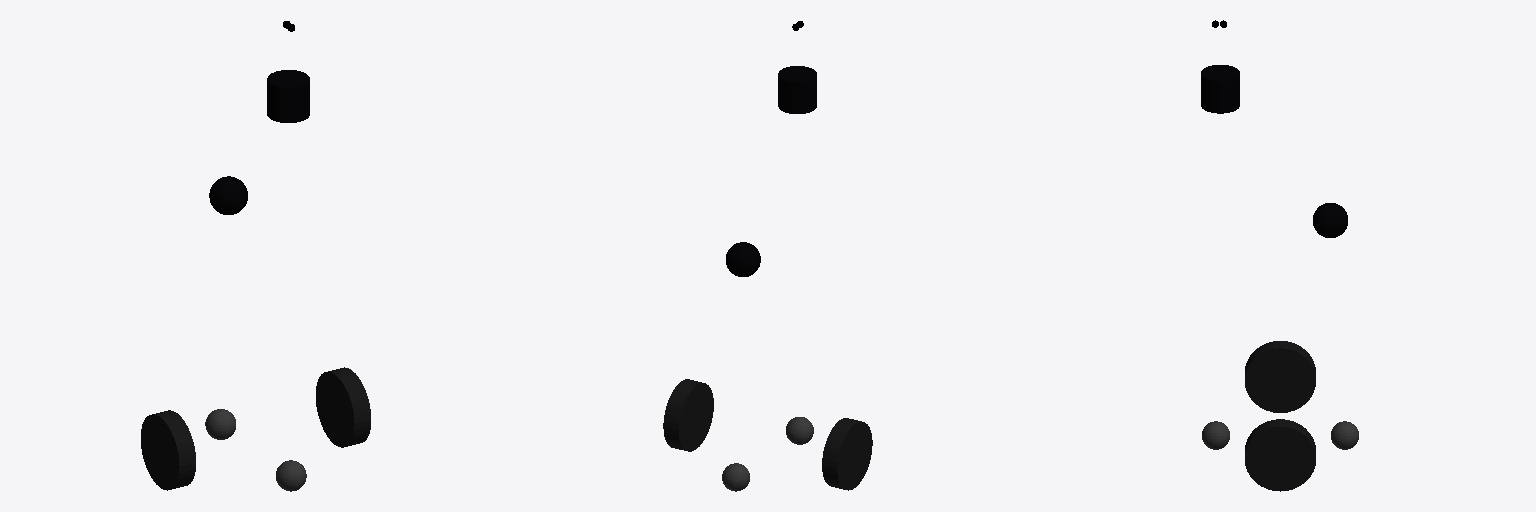
robot.urdf — shadow:
<?xml version="1.0"?>
<!-- URDF de Shadow generado a partir de Shadow.proto (Webots R2023b) y BodyMesh.proto.
     Se mantienen los ejes de Webots tal cual (z arriba, la base avanza por +y, las ruedas
     estan sobre el eje x). Unidades: metros, radianes, kg. -->
<robot name="shadow">

  <material name="body_grey"><color rgba="0.871 0.867 0.855 1.0"/></material>
  <material name="black_lens"><color rgba="0.02 0.02 0.03 1.0"/></material>
  <material name="black_housing"><color rgba="0.04 0.04 0.05 1.0"/></material>
  <material name="tire"><color rgba="0.12 0.12 0.12 1.0"/></material>
  <material name="caster_grey"><color rgba="0.25 0.25 0.25 1.0"/></material>

  <!-- ===================== BASE ===================== -->
  <!-- Proyeccion en el suelo (el Robot de Webots esta a z = 0.033) -->
  <link name="base_footprint"/>

  <link name="base_link">
    <inertial>
      <origin xyz="0 0 -0.045" rpy="0 0 0"/>
      <mass value="50"/>
      <inertia ixx="0.418086" iyy="0.166204" izz="0.55459" ixy="0" ixz="0" iyz="0"/>
    </inertial>
    <visual>
      <geometry>
        <mesh filename="meshes/shadow.stl"/>
      </geometry>
      <material name="body_grey"/>
    </visual>
    <!-- boundingObject del proto -->
    <collision>
      <origin xyz="0 0 0.38" rpy="0 0 0"/>
      <geometry><box size="0.44 0.46 0.76"/></geometry>
    </collision>
    <collision>
      <origin xyz="0 -0.17 1.03" rpy="0 0 0"/>
      <geometry><box size="0.1 0.1 0.61"/></geometry>
    </collision>
  </link>

  <joint name="base_footprint_to_base_link" type="fixed">
    <parent link="base_footprint"/>
    <child link="base_link"/>
    <origin xyz="0 0 0.033" rpy="0 0 0"/>
  </joint>

  <!-- ===================== RUEDAS MOTRICES ===================== -->
  <!-- Radio 0.1, ancho 0.05, masa 2 kg, eje de giro (-1 0 0), anchor (+-0.259, 0, 0.067) -->
  <link name="wheel_left">
    <inertial>
      <mass value="2"/>
      <inertia ixx="0.01" iyy="0.0054167" izz="0.0054167" ixy="0" ixz="0" iyz="0"/>
    </inertial>
    <visual>
      <origin xyz="0 0 0" rpy="0 1.5707963 0"/>
      <geometry><cylinder radius="0.1" length="0.05"/></geometry>
      <material name="tire"/>
    </visual>
    <collision>
      <origin xyz="0 0 0" rpy="0 1.5707963 0"/>
      <geometry><cylinder radius="0.1" length="0.05"/></geometry>
    </collision>
  </link>

  <joint name="wheel_left_joint" type="continuous">
    <parent link="base_link"/>
    <child link="wheel_left"/>
    <origin xyz="-0.259 0 0.067" rpy="0 0 0"/>
    <axis xyz="-1 0 0"/>
    <limit effort="100" velocity="30"/>
  </joint>

  <link name="wheel_right">
    <inertial>
      <mass value="2"/>
      <inertia ixx="0.01" iyy="0.0054167" izz="0.0054167" ixy="0" ixz="0" iyz="0"/>
    </inertial>
    <visual>
      <origin xyz="0 0 0" rpy="0 1.5707963 0"/>
      <geometry><cylinder radius="0.1" length="0.05"/></geometry>
      <material name="tire"/>
    </visual>
    <collision>
      <origin xyz="0 0 0" rpy="0 1.5707963 0"/>
      <geometry><cylinder radius="0.1" length="0.05"/></geometry>
    </collision>
  </link>

  <joint name="wheel_right_joint" type="continuous">
    <parent link="base_link"/>
    <child link="wheel_right"/>
    <origin xyz="0.259 0 0.067" rpy="0 0 0"/>
    <axis xyz="-1 0 0"/>
    <limit effort="100" velocity="30"/>
  </joint>

  <!-- ===================== RUEDAS LOCAS (BallJoint -> 3 joints continuos) ===================== -->
  <!-- URDF no tiene joint esferico: se emula con roll/pitch/yaw encadenados. Esfera r=0.04, masa 0.2 -->
  <link name="caster_front_roll"><inertial><mass value="0.001"/><inertia ixx="1e-7" iyy="1e-7" izz="1e-7" ixy="0" ixz="0" iyz="0"/></inertial></link>
  <link name="caster_front_pitch"><inertial><mass value="0.001"/><inertia ixx="1e-7" iyy="1e-7" izz="1e-7" ixy="0" ixz="0" iyz="0"/></inertial></link>
  <link name="caster_front">
    <inertial>
      <mass value="0.2"/>
      <inertia ixx="0.000128" iyy="0.000128" izz="0.000128" ixy="0" ixz="0" iyz="0"/>
    </inertial>
    <visual>
      <geometry><sphere radius="0.04"/></geometry>
      <material name="caster_grey"/>
    </visual>
    <collision>
      <geometry><sphere radius="0.04"/></geometry>
    </collision>
  </link>
  <joint name="caster_front_roll_joint" type="continuous">
    <parent link="base_link"/><child link="caster_front_roll"/>
    <origin xyz="0 0.18 0.007" rpy="0 0 0"/><axis xyz="1 0 0"/>
  </joint>
  <joint name="caster_front_pitch_joint" type="continuous">
    <parent link="caster_front_roll"/><child link="caster_front_pitch"/>
    <origin xyz="0 0 0" rpy="0 0 0"/><axis xyz="0 1 0"/>
  </joint>
  <joint name="caster_front_yaw_joint" type="continuous">
    <parent link="caster_front_pitch"/><child link="caster_front"/>
    <origin xyz="0 0 0" rpy="0 0 0"/><axis xyz="0 0 1"/>
  </joint>

  <link name="caster_back_roll"><inertial><mass value="0.001"/><inertia ixx="1e-7" iyy="1e-7" izz="1e-7" ixy="0" ixz="0" iyz="0"/></inertial></link>
  <link name="caster_back_pitch"><inertial><mass value="0.001"/><inertia ixx="1e-7" iyy="1e-7" izz="1e-7" ixy="0" ixz="0" iyz="0"/></inertial></link>
  <link name="caster_back">
    <inertial>
      <mass value="0.2"/>
      <inertia ixx="0.000128" iyy="0.000128" izz="0.000128" ixy="0" ixz="0" iyz="0"/>
    </inertial>
    <visual>
      <geometry><sphere radius="0.04"/></geometry>
      <material name="caster_grey"/>
    </visual>
    <collision>
      <geometry><sphere radius="0.04"/></geometry>
    </collision>
  </link>
  <joint name="caster_back_roll_joint" type="continuous">
    <parent link="base_link"/><child link="caster_back_roll"/>
    <origin xyz="0 -0.18 0.007" rpy="0 0 0"/><axis xyz="1 0 0"/>
  </joint>
  <joint name="caster_back_pitch_joint" type="continuous">
    <parent link="caster_back_roll"/><child link="caster_back_pitch"/>
    <origin xyz="0 0 0" rpy="0 0 0"/><axis xyz="0 1 0"/>
  </joint>
  <joint name="caster_back_yaw_joint" type="continuous">
    <parent link="caster_back_pitch"/><child link="caster_back"/>
    <origin xyz="0 0 0" rpy="0 0 0"/><axis xyz="0 0 1"/>
  </joint>

  <!-- ===================== IMU (Accelerometer + Gyro en el origen del robot) ===================== -->
  <link name="imu"/>
  <joint name="base_link_to_imu" type="fixed">
    <parent link="base_link"/>
    <child link="imu"/>
    <origin xyz="0 0 0" rpy="0 0 0"/>
  </joint>

  <!-- ===================== ZED (Camera 1280x720, fov 1.9198 + RangeFinder "zed-ranger") ===================== -->
  <link name="zed"/>
  <joint name="base_link_to_zed" type="fixed">
    <parent link="base_link"/>
    <child link="zed"/>
    <origin xyz="0 -0.075 0.945" rpy="0 0 1.57"/>
  </joint>
  <!-- RangeFinder hijo de la camara, misma pose -->
  <link name="zed_ranger"/>
  <joint name="zed_to_zed_ranger" type="fixed">
    <parent link="zed"/>
    <child link="zed_ranger"/>
    <origin xyz="0 0 0" rpy="0 0 0"/>
  </joint>

  <!-- ===================== RICOH THETA: 2 camaras 960x960, fov 3.14, cilindricas ===================== -->
  <!-- camera_360_2: rotation 0 0 1 -pi/2 -->
  <link name="camera_360_2"/>
  <joint name="base_link_to_camera_360_2" type="fixed">
    <parent link="base_link"/>
    <child link="camera_360_2"/>
    <origin xyz="0 -0.17 1.275" rpy="0 0 -1.5707953"/>
  </joint>

  <!-- camera_360_1: rotation 0 0 -1 -pi/2  (= +pi/2 sobre z). Lleva las dos lentes (+-0.0115 en x local) -->
  <link name="camera_360_1">
    <visual>
      <origin xyz="0.0115 0 0" rpy="0 0 0"/>
      <geometry><sphere radius="0.0105"/></geometry>
      <material name="black_lens"/>
    </visual>
    <visual>
      <origin xyz="-0.0115 0 0" rpy="0 0 0"/>
      <geometry><sphere radius="0.0105"/></geometry>
      <material name="black_lens"/>
    </visual>
  </link>
  <joint name="base_link_to_camera_360_1" type="fixed">
    <parent link="base_link"/>
    <child link="camera_360_1"/>
    <origin xyz="0 -0.17 1.275" rpy="0 0 1.5708053"/>
  </joint>

  <!-- ===================== HELIOS (RS-Helios H32F70), montado invertido ===================== -->
  <!-- Webots: rotation 1 1 0 pi  ==  Rz(+90) * Rx(180)  ->  rpy = (pi, 0, pi/2) -->
  <link name="helios">
    <visual>
      <origin xyz="-0.0125 0 0" rpy="0 0 0"/>
      <geometry><cylinder radius="0.055" length="0.10"/></geometry>
      <material name="black_housing"/>
    </visual>
  </link>
  <joint name="base_link_to_helios" type="fixed">
    <parent link="base_link"/>
    <child link="helios"/>
    <origin xyz="0 -0.155 1.075" rpy="3.14159265359 0 1.5707963268"/>
  </joint>

  <!-- ===================== BPEARL (invertido) ===================== -->
  <!-- Webots: rotation -1 -1 0 pi  ->  misma matriz que helios: rpy = (pi, 0, pi/2) -->
  <link name="bpearl">
    <visual>
      <geometry><sphere radius="0.05"/></geometry>
      <material name="black_housing"/>
    </visual>
  </link>
  <joint name="base_link_to_bpearl" type="fixed">
    <parent link="base_link"/>
    <child link="bpearl"/>
    <origin xyz="0 0.14 0.67" rpy="3.14159265359 0 1.5707963268"/>
  </joint>

</robot>

--- What the picture shows (computed from the rendered views, not written in the file) ---
3 views of the same robot in one strip: view 1: azimuth 30°, elevation 25°; view 2: azimuth 150°, elevation 25°; view 3: azimuth 270°, elevation 25° (orthographic).
Robot: shadow — 17 links, 16 joints (8 continuous, 8 fixed); root link base_footprint; default pose: all joints at 0.
Links seen in each view (by area): view 1: wheel_right, wheel_left, helios, bpearl, caster_front, caster_back; view 2: wheel_left, wheel_right, helios, bpearl, caster_front, caster_back; view 3: wheel_left, wheel_right, helios, bpearl, caster_front, caster_back.
Link boxes in pixels (left/top/right/bottom): wheel_right: left=316, top=367, right=370, bottom=447; wheel_left: left=141, top=410, right=195, bottom=490; helios: left=267, top=70, right=309, bottom=122; bpearl: left=209, top=176, right=247, bottom=214; caster_front: left=205, top=409, right=235, bottom=439; caster_back: left=276, top=460, right=306, bottom=491; wheel_left: left=822, top=418, right=872, bottom=490; wheel_right: left=663, top=379, right=713, bottom=451; helios: left=778, top=66, right=816, bottom=113; bpearl: left=726, top=242, right=760, bottom=276; caster_front: left=722, top=463, right=749, bottom=491; caster_back: left=786, top=417, right=813, bottom=444; wheel_left: left=1245, top=341, right=1315, bottom=412; wheel_right: left=1245, top=419, right=1315, bottom=491; helios: left=1201, top=65, right=1239, bottom=113; bpearl: left=1313, top=203, right=1347, bottom=237; caster_front: left=1331, top=421, right=1358, bottom=449; caster_back: left=1202, top=421, right=1229, bottom=449.
Size in the robot's own frame: 0.568 by 0.4425 by 1.32 metres.
Meshes: 1 distinct files referenced, 0 mesh visuals loaded (none loaded); not drawn: 1 (reference not matched to a file when rendering).
